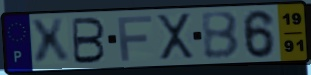6: (241, 8, 278, 60)
B: (199, 10, 241, 61), (71, 17, 108, 66)
F: (115, 14, 154, 63)
X: (28, 17, 73, 68), (154, 12, 196, 63)
